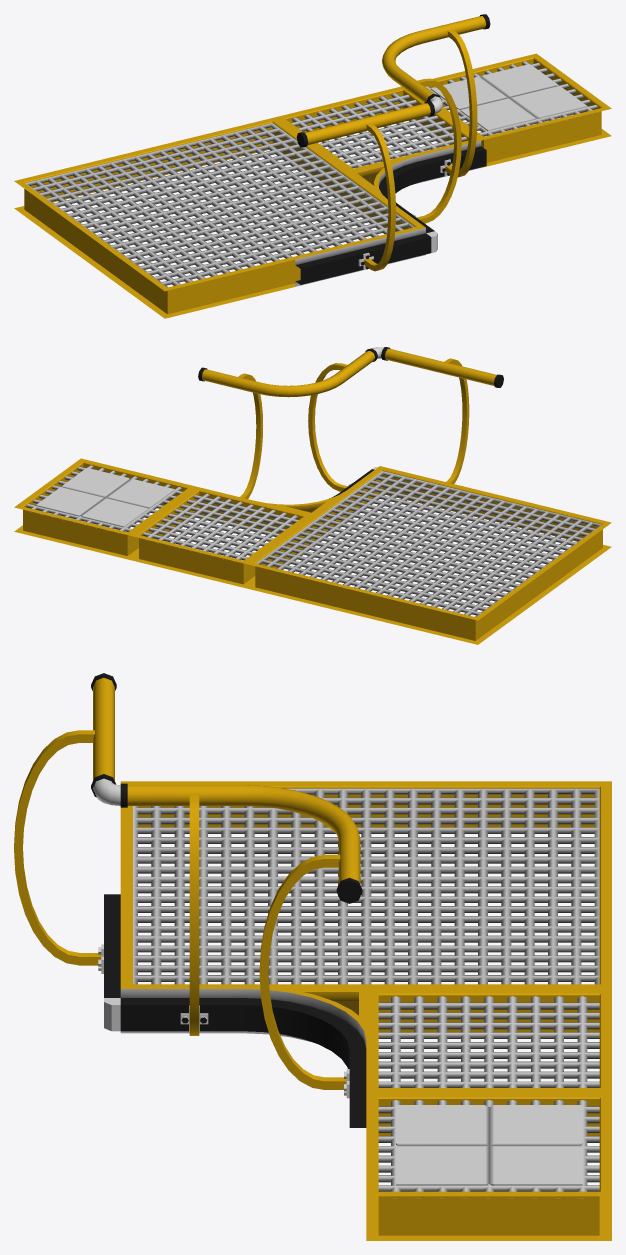
Rendered from RC_AS_platforms_catwalk.fbx.
3 views of the same model, one above another, from view 1: azimuth 30°, elevation 25°; view 2: azimuth 150°, elevation 25°; view 3: azimuth 270°, elevation 25° (orthographic). The views are drawn at different scales.
Parts seen in each view (by area): view 1: platform_catwalk_floor2x2, platform_catwalk_floor1x1_plated, platform_catwalk_floor1x1, platform_catwalk_cornerRail, platform_catwalk_sideRail, platform_catwalk_side, platform_catwalk_corner; view 2: platform_catwalk_floor2x2, platform_catwalk_floor1x1_plated, platform_catwalk_floor1x1, platform_catwalk_cornerRail, platform_catwalk_sideRail, platform_catwalk_corner; view 3: platform_catwalk_floor2x2, platform_catwalk_floor1x1_plated, platform_catwalk_floor1x1, platform_catwalk_cornerRail, platform_catwalk_corner, platform_catwalk_sideRail, platform_catwalk_side.
Part boxes in pixels (box(x1,y1,x2,y2)): platform_catwalk_floor2x2: box(14, 117, 425, 318); platform_catwalk_floor1x1_plated: box(425, 53, 611, 167); platform_catwalk_floor1x1: box(275, 86, 480, 172); platform_catwalk_cornerRail: box(382, 14, 490, 223); platform_catwalk_sideRail: box(296, 101, 435, 271); platform_catwalk_side: box(295, 228, 431, 286); platform_catwalk_corner: box(351, 140, 486, 233); platform_catwalk_floor2x2: box(246, 466, 611, 644); platform_catwalk_floor1x1_plated: box(14, 458, 196, 559); platform_catwalk_floor1x1: box(130, 487, 312, 588); platform_catwalk_cornerRail: box(198, 348, 377, 498); platform_catwalk_sideRail: box(381, 347, 503, 483); platform_catwalk_corner: box(257, 469, 374, 514); platform_catwalk_floor2x2: box(120, 781, 611, 988); platform_catwalk_floor1x1_plated: box(366, 1092, 611, 1240); platform_catwalk_floor1x1: box(366, 989, 611, 1092); platform_catwalk_cornerRail: box(120, 783, 362, 1098); platform_catwalk_corner: box(120, 989, 366, 1127); platform_catwalk_sideRail: box(14, 673, 116, 973); platform_catwalk_side: box(104, 894, 120, 997).
Bounding box in the file's own units: 4 × 1.15 × 2.43.
